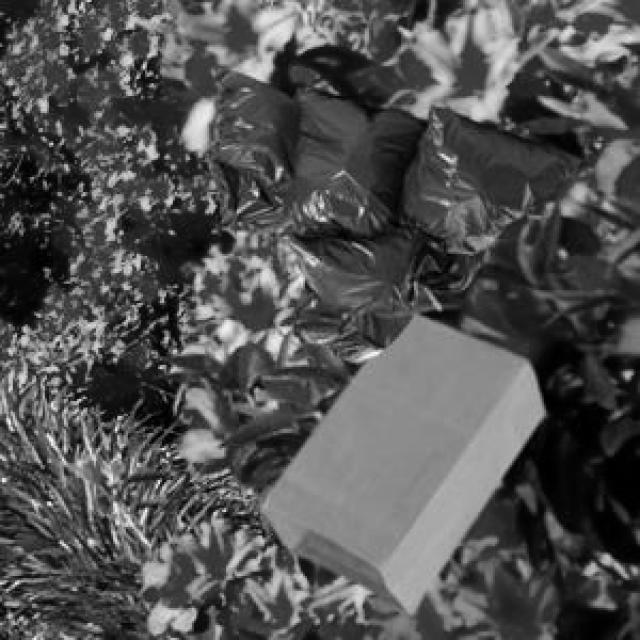miscellaneous trash: (205, 64, 580, 358)
paper: (258, 309, 540, 610)
